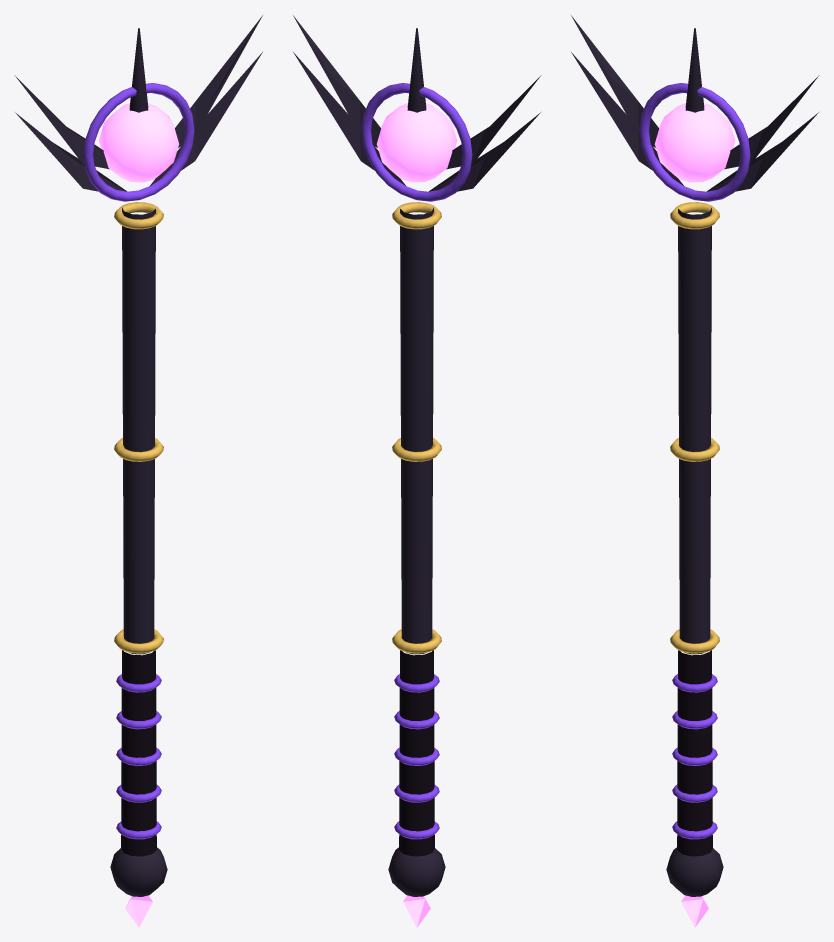
File: scepter_6.glb
3 views of the same model, side by side, from view 1: azimuth 30°, elevation 25°; view 2: azimuth 150°, elevation 25°; view 3: azimuth 330°, elevation 25° (orthographic).
Parts seen in each view (by area): view 1: scepter_6; view 2: scepter_6; view 3: scepter_6.
Part boxes in pixels (<box>): scepter_6: <box>14,15,262,927</box>; scepter_6: <box>293,15,541,927</box>; scepter_6: <box>571,15,819,927</box>.
Bounding box in the file's own units: 0.32 × 1.1 × 0.0856.
